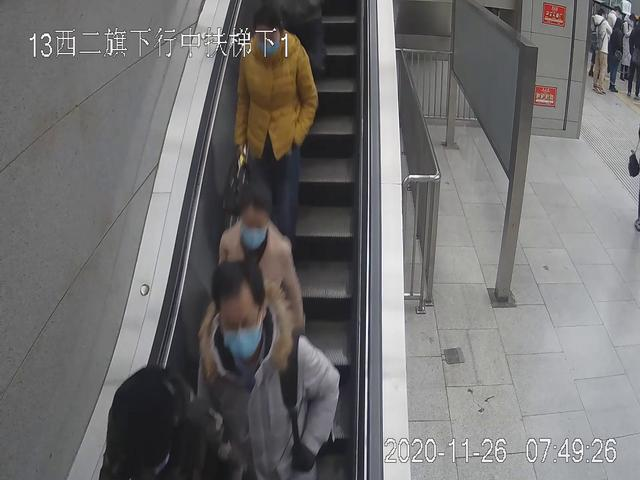person: (200, 268, 339, 480), (217, 183, 305, 440), (236, 12, 318, 255), (589, 9, 611, 92), (608, 18, 622, 92)
